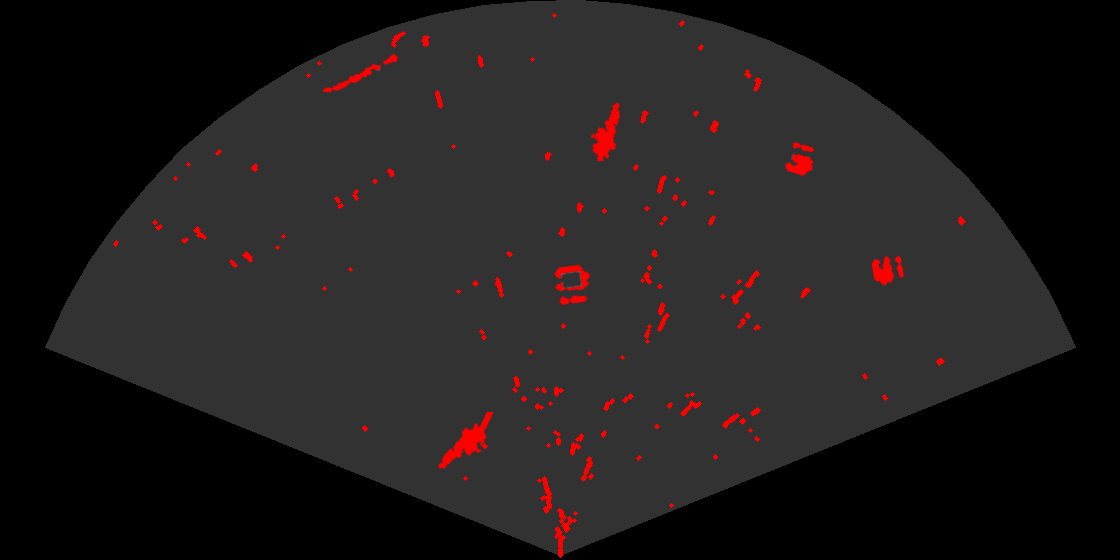ball: (552, 263, 592, 307), (783, 141, 816, 177), (870, 254, 905, 287)
chain: (321, 50, 406, 94)
frogman: (436, 412, 495, 471), (589, 100, 621, 161)
